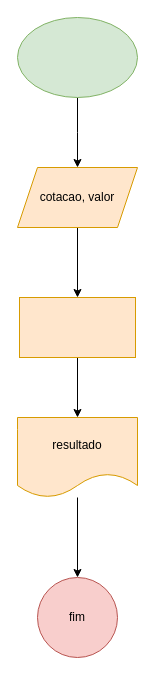
Some shapes in this 155 by 675 pixel diagram are drawn without their labels. Here are the shapes that lost their labels. From the top down, the box of each, then its label:
(16, 16, 138, 98): inicio
(18, 296, 136, 358): resultado = (valorreal/cotacao)
